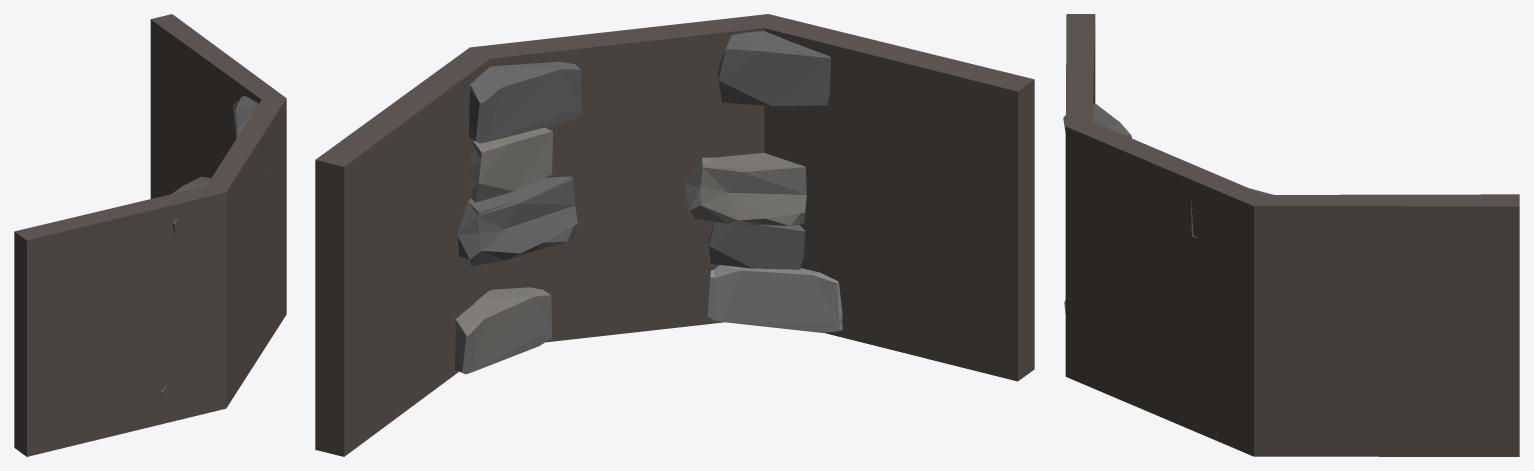
File: MCastle_OctWall_Int_13.FBX
3 renders of one model, left to right at view 1: azimuth 30°, elevation 25°; view 2: azimuth 150°, elevation 25°; view 3: azimuth 270°, elevation 25°, orthographic. The views are drawn at different scales.
Visible parts, largest first — view 1: MCastle_OctWall_Int_13_LOD0; view 2: MCastle_OctWall_Int_13_LOD0; view 3: MCastle_OctWall_Int_13_LOD0.
Boxes of the visible parts, <box> form: MCastle_OctWall_Int_13_LOD0: <box>14,14,286,456</box>; MCastle_OctWall_Int_13_LOD0: <box>315,14,1034,456</box>; MCastle_OctWall_Int_13_LOD0: <box>1063,14,1519,456</box>.
Size of what is drawn, in the model's own units: 155 by 94.1 by 155.
